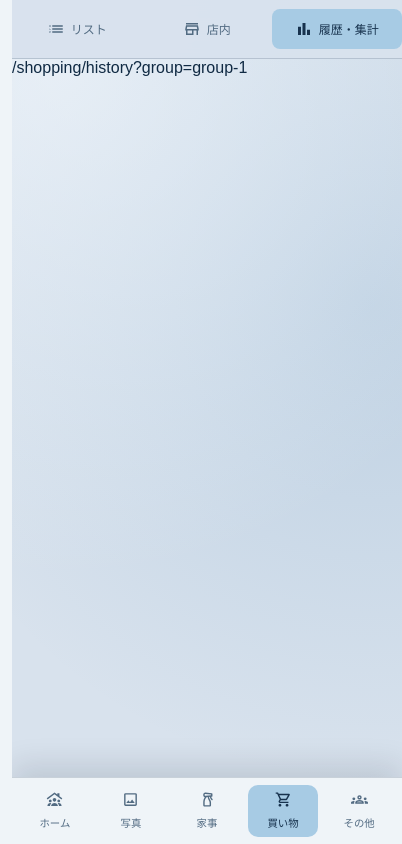
Test: AppNavigation › groups shopping destinations and preserves the selected family group
The width and height of the screenshot is (402, 844).
Click the link "リスト" at (77, 29), box x1=47 y1=20 x2=107 y2=38
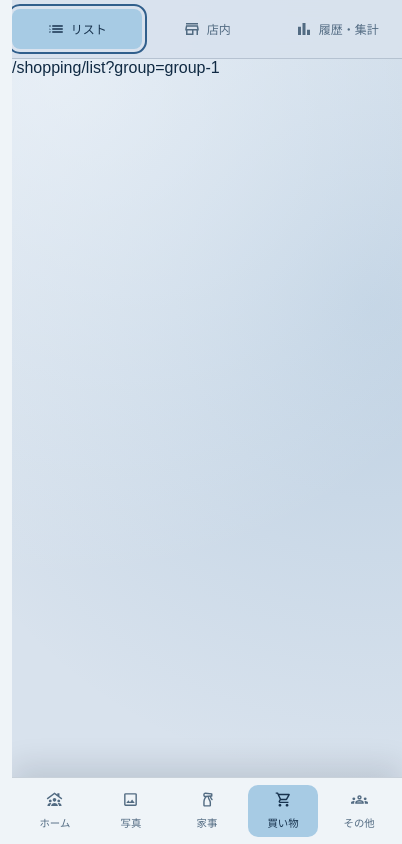
Expected: the text named "current search" reads "?group=group-1", x1=105 y1=59 x2=220 y2=76
Result: the text named "current path" reads "/shopping/list" at x1=12 y1=59 x2=105 y2=76
